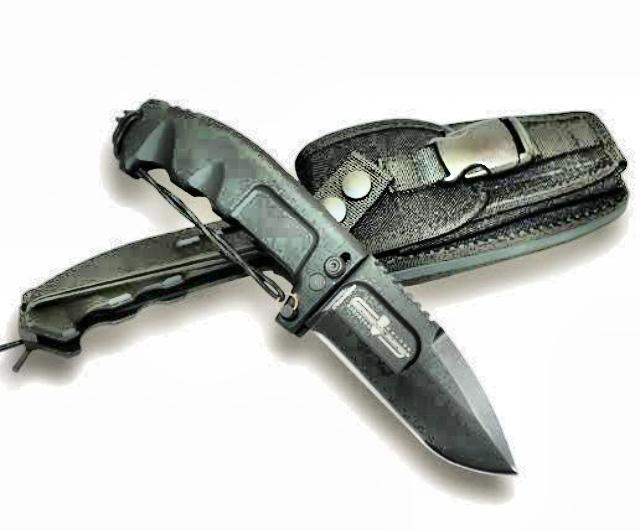knife: (284, 245, 524, 485)
